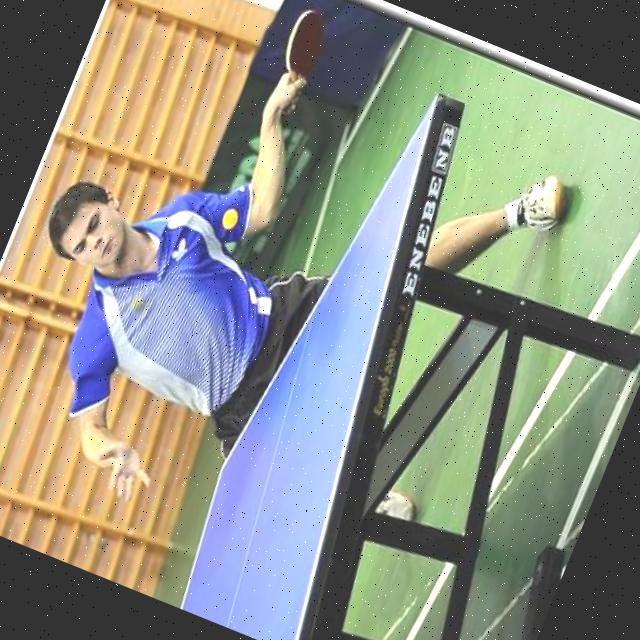ping-pong-ball: (216, 204, 242, 232)
